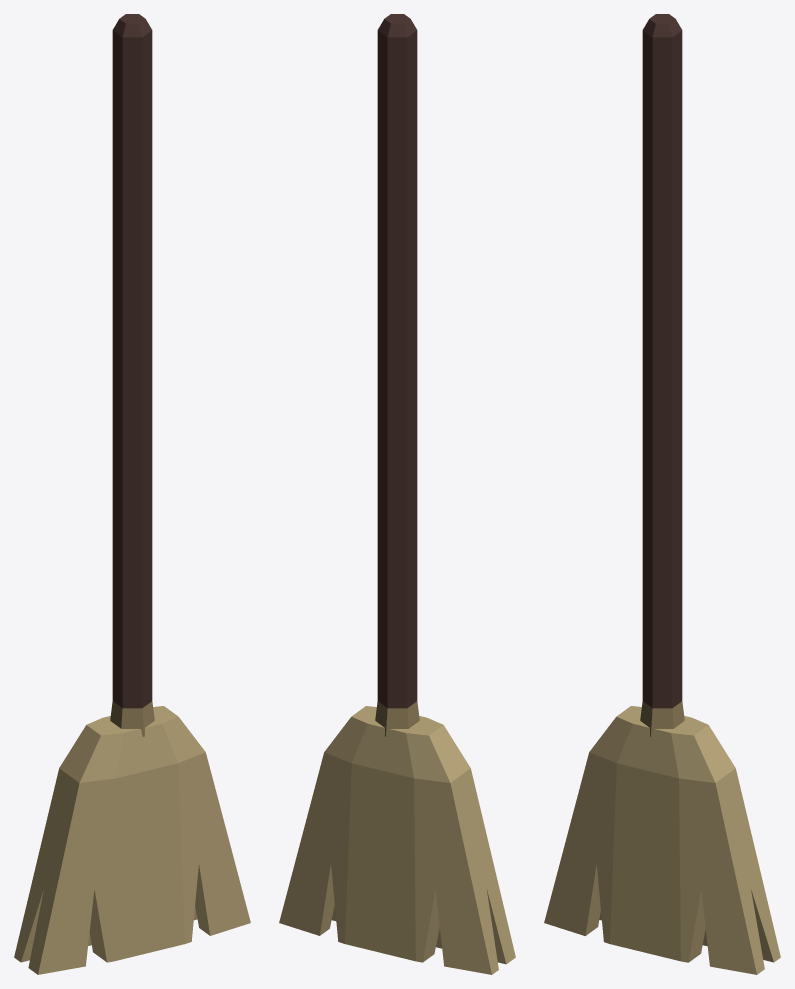
File: Broom.fbx
3 views of the same model, side by side, from view 1: azimuth 30°, elevation 25°; view 2: azimuth 150°, elevation 25°; view 3: azimuth 330°, elevation 25° (orthographic).
Visible parts, largest first — view 1: Cylinder.006; view 2: Cylinder.006; view 3: Cylinder.006.
Part boxes in pixels (x1,y1,x2,y2): Cylinder.006: (14, 14, 250, 974); Cylinder.006: (279, 14, 515, 974); Cylinder.006: (544, 14, 780, 974).
Size of the model in its own units: 50.14 by 207 by 13.94.
